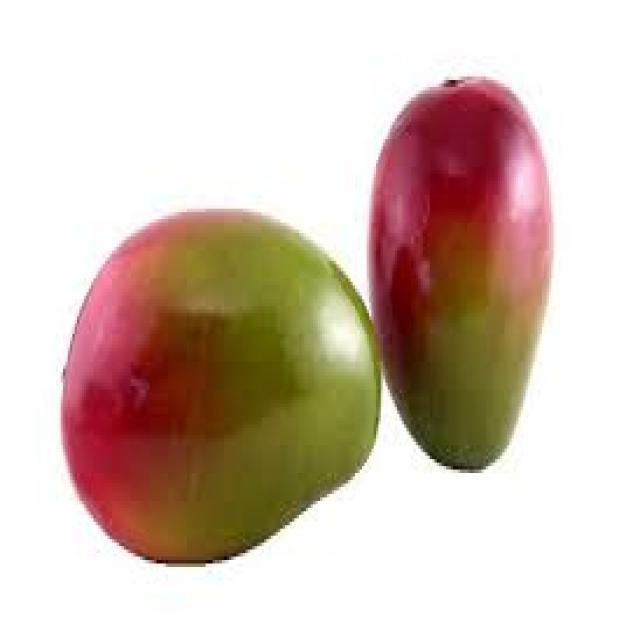organic waste: (59, 205, 378, 564), (367, 70, 551, 473)
